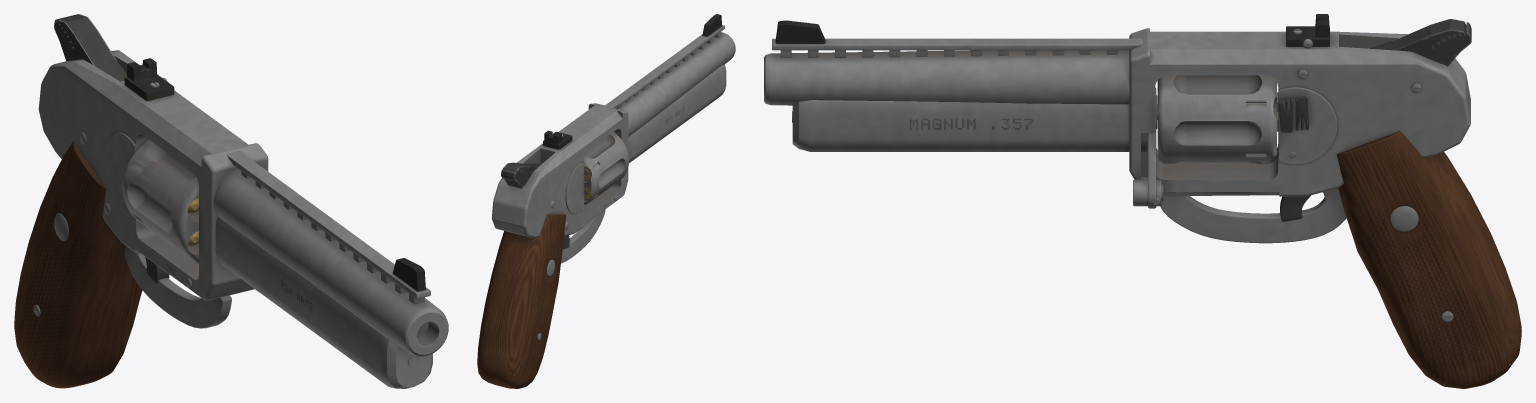
Rendered from revolver.glb.
3 renders of one model, left to right at view 1: azimuth 30°, elevation 25°; view 2: azimuth 150°, elevation 25°; view 3: azimuth 270°, elevation 25°, orthographic. The views are drawn at different scales.
Parts seen in each view (by area): view 1: mesh_body, mesh_cylinder, mesh_hammer; view 2: mesh_body, mesh_cylinder, mesh_hammer; view 3: mesh_body, mesh_cylinder, mesh_hammer, mesh_crane.
Part boxes in pixels (left/top/right/bottom): mesh_body: left=14, top=50, right=448, bottom=388; mesh_cylinder: left=122, top=139, right=198, bottom=263; mesh_hammer: left=54, top=14, right=126, bottom=81; mesh_body: left=477, top=14, right=735, bottom=388; mesh_cylinder: left=584, top=132, right=628, bottom=205; mesh_hammer: left=501, top=162, right=542, bottom=188; mesh_body: left=764, top=14, right=1521, bottom=388; mesh_cylinder: left=1157, top=75, right=1278, bottom=163; mesh_hammer: left=1370, top=19, right=1471, bottom=66; mesh_crane: left=1133, top=87, right=1163, bottom=208.
Bounding box in the file's own units: 0.042 × 0.1532 × 0.2926.
6 materials, 6 textured.
